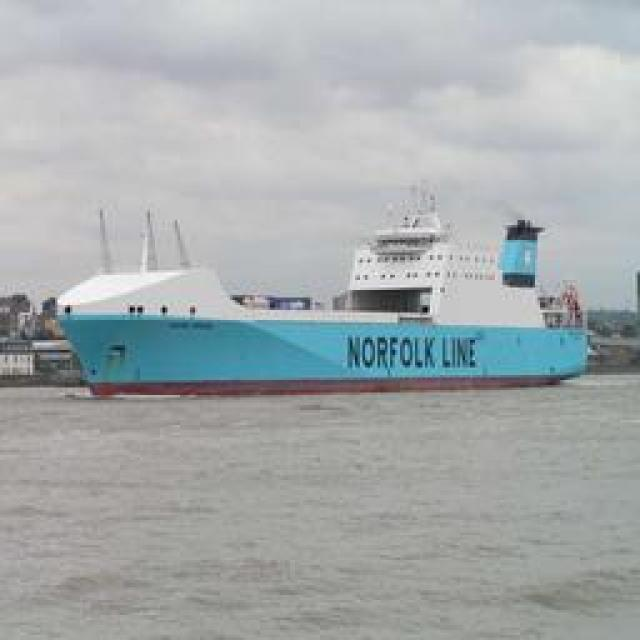ship2: (55, 184, 590, 397)
